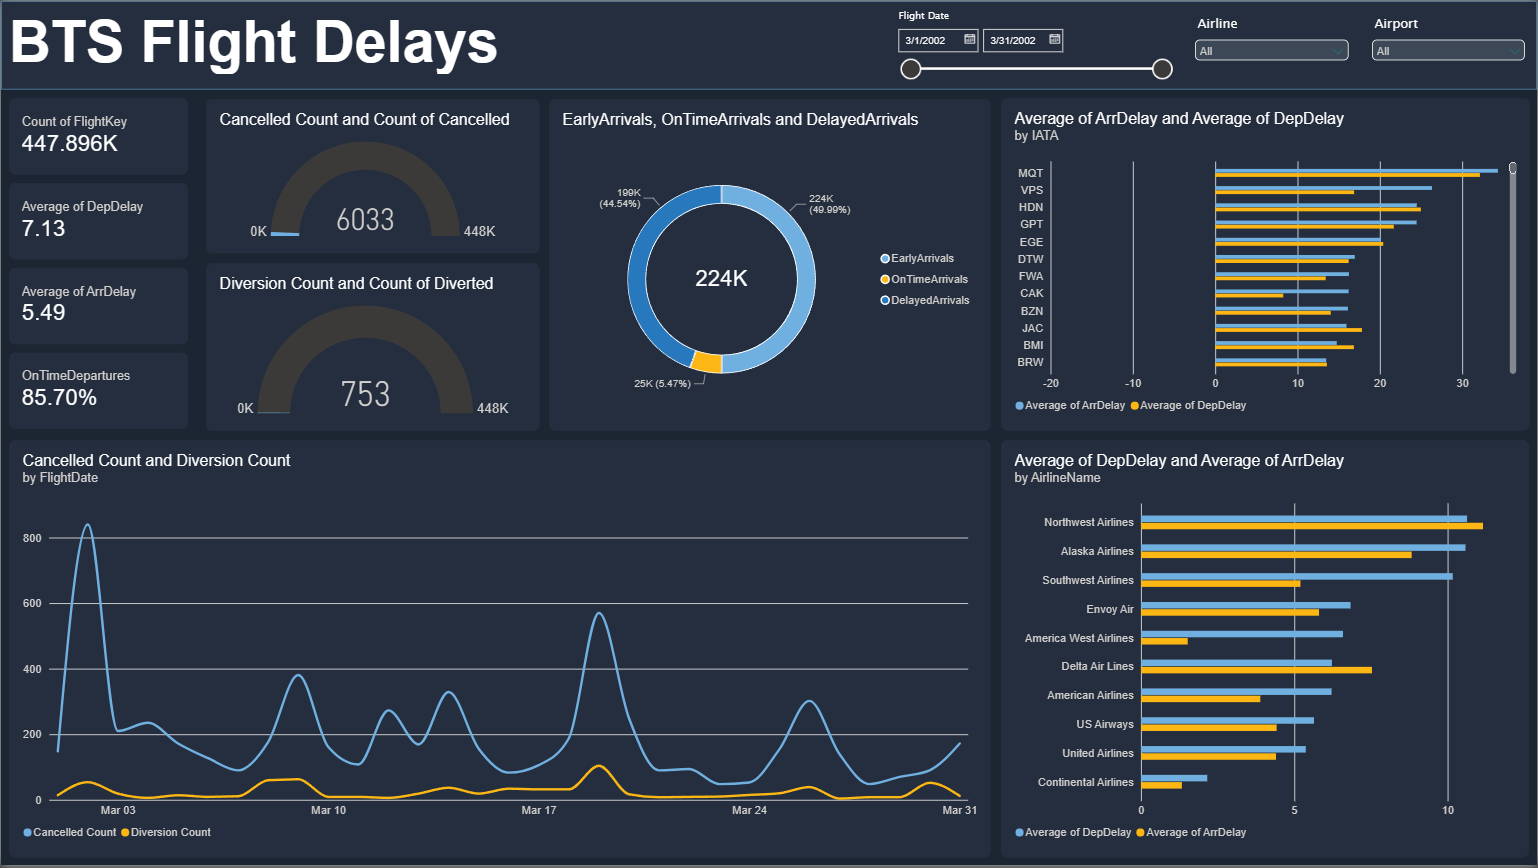

The page's visual inventory and layout, read from the dashboard file:
{"tool":"powerbi","page":{"name":"Page 1","canvas":[1920,1080],"ordinal":0},"visuals":[{"type":"shape","box":[0,0,1920,110.7],"z":0},{"type":"slicer","fields":{"Values":["warehouse fact_flight.FlightDate"]},"box":[1114,9.6,364,90.7],"z":1000},{"type":"cardVisual","fields":{"Data":["Count(warehouse fact_flight.FlightKey)","Avg(warehouse fact_flight.DepDelay)","Avg(warehouse fact_flight.ArrDelay)","warehouse fact_flight.OnTimeDepartures"]},"box":[0,110.8,245,436.6],"z":2000},{"type":"slicer","fields":{"Values":["warehouse dim_carrier.AirlineName"]},"box":[1478,16.4,221.7,76.6],"z":5000},{"type":"gauge","fields":{"MaxValue":["CountNonNull(warehouse fact_flight.Cancelled)"],"Y":["warehouse fact_flight.Cancelled Count"]},"box":[256.8,122.5,417,193.2],"z":6000},{"type":"gauge","fields":{"MaxValue":["CountNonNull(warehouse fact_flight.Diverted)"],"Y":["warehouse fact_flight.Diversion Count"]},"box":[256.8,327.5,417,209.7],"z":7000},{"type":"donutChart","fields":{"Y":["warehouse fact_flight.EarlyArrivals","warehouse fact_flight.OnTimeArrivals","warehouse fact_flight.DelayedArrivals"]},"box":[685.5,122.5,552.4,414.6],"z":8000},{"type":"clusteredBarChart","fields":{"Category":["warehouse dim_carrier.AirlineName"],"Y":["Avg(warehouse fact_flight.DepDelay)","Avg(warehouse fact_flight.ArrDelay)"]},"box":[1249.8,548.9,660,522],"z":10000},{"type":"clusteredBarChart","fields":{"Category":["warehouse dim_airport.IATA"],"Y":["Avg(warehouse fact_flight.ArrDelay)","Avg(warehouse fact_flight.DepDelay)"]},"box":[1249.8,121.3,661,415.8],"z":11000},{"type":"lineChart","fields":{"Category":["warehouse fact_flight.FlightDate"],"Y":["warehouse fact_flight.Cancelled Count","warehouse fact_flight.Diversion Count"]},"box":[10.6,548.9,1227.4,521.8],"z":12000},{"type":"actionButton","box":[0,0,100,40],"z":13000},{"type":"slicer","fields":{"Values":["warehouse dim_airport.State","warehouse dim_airport.CityName","warehouse dim_airport.IATA"]},"box":[1698.3,16.4,221.4,76.6],"z":14000},{"type":"textbox","box":[10.6,9.4,1103.7,83.6],"z":14001}]}

Visuals, with their boxes in screenshot pixels (x1, y1, x2, y2), scaled from the page's 1920x1080 canvas onto the 1538x868 screenshot:
shape: (x1=0, y1=0, x2=1537, y2=89)
slicer - warehouse fact_flight.FlightDate: (x1=892, y1=8, x2=1184, y2=81)
cardVisual - Count(warehouse fact_flight.FlightKey) x Avg(warehouse fact_flight.DepDelay): (x1=0, y1=89, x2=196, y2=440)
slicer - warehouse dim_carrier.AirlineName: (x1=1184, y1=13, x2=1362, y2=75)
gauge - CountNonNull(warehouse fact_flight.Cancelled) x warehouse fact_flight.Cancelled Count: (x1=206, y1=98, x2=540, y2=254)
gauge - CountNonNull(warehouse fact_flight.Diverted) x warehouse fact_flight.Diversion Count: (x1=206, y1=263, x2=540, y2=432)
donutChart - warehouse fact_flight.EarlyArrivals x warehouse fact_flight.OnTimeArrivals: (x1=549, y1=98, x2=992, y2=432)
clusteredBarChart - warehouse dim_carrier.AirlineName x Avg(warehouse fact_flight.DepDelay): (x1=1001, y1=441, x2=1530, y2=861)
clusteredBarChart - warehouse dim_airport.IATA x Avg(warehouse fact_flight.ArrDelay): (x1=1001, y1=97, x2=1531, y2=432)
lineChart - warehouse fact_flight.FlightDate x warehouse fact_flight.Cancelled Count: (x1=8, y1=441, x2=992, y2=861)
actionButton: (x1=0, y1=0, x2=80, y2=32)
slicer - warehouse dim_airport.State x warehouse dim_airport.CityName: (x1=1360, y1=13, x2=1537, y2=75)
textbox: (x1=8, y1=8, x2=893, y2=75)
